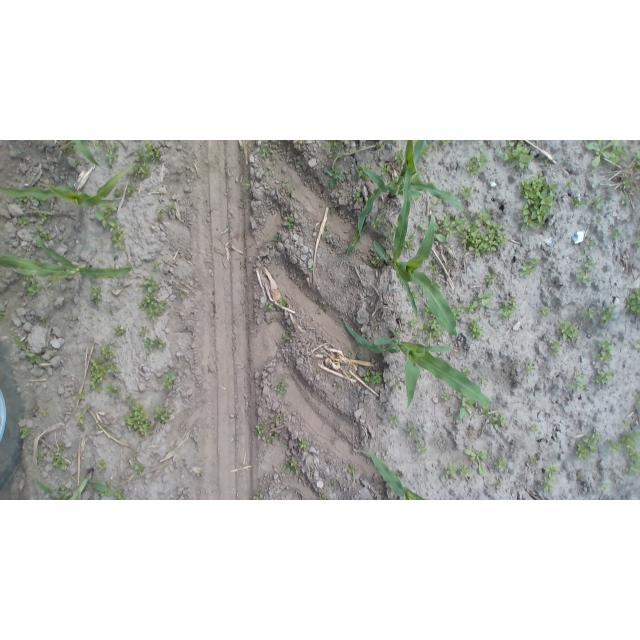Maize: (374, 170, 459, 346), (347, 142, 473, 259), (342, 317, 491, 412), (1, 165, 131, 210), (0, 235, 132, 278), (353, 448, 423, 500), (33, 468, 114, 501), (71, 141, 101, 168), (78, 405, 98, 432)
Weeds: (326, 141, 382, 188), (521, 179, 557, 232), (465, 221, 508, 259), (609, 430, 640, 476), (124, 398, 154, 436), (498, 141, 535, 170), (138, 294, 167, 321), (586, 141, 615, 168), (574, 431, 598, 459), (465, 151, 489, 178), (89, 359, 107, 394), (465, 449, 487, 475), (592, 339, 615, 363), (467, 292, 492, 313), (423, 319, 445, 342), (624, 288, 640, 316), (622, 177, 636, 208), (135, 142, 153, 166), (429, 259, 443, 289), (457, 397, 475, 420), (519, 257, 539, 277), (556, 321, 576, 341), (96, 210, 117, 228), (498, 300, 517, 319), (144, 337, 166, 353), (593, 369, 613, 385), (601, 301, 615, 322), (439, 214, 456, 231), (577, 268, 594, 285), (364, 370, 383, 385), (153, 406, 170, 422), (612, 140, 629, 156), (281, 459, 298, 474), (358, 163, 372, 181), (95, 140, 120, 150), (102, 344, 117, 360), (573, 374, 587, 391), (453, 303, 466, 321), (164, 374, 177, 391), (494, 414, 507, 431), (470, 320, 482, 338), (145, 276, 158, 292), (90, 288, 102, 305), (107, 384, 122, 397), (27, 353, 42, 366), (548, 341, 563, 354), (150, 148, 162, 164), (423, 302, 435, 318), (463, 187, 473, 206), (106, 151, 119, 165), (276, 381, 288, 396), (139, 166, 152, 179), (112, 235, 124, 249), (457, 463, 468, 478), (54, 457, 66, 470), (114, 324, 127, 336), (460, 364, 472, 377), (396, 149, 405, 166), (543, 481, 555, 493), (454, 215, 463, 231), (586, 238, 597, 251), (446, 466, 457, 479), (585, 257, 596, 270), (632, 150, 640, 167), (572, 197, 584, 208), (590, 195, 602, 206), (546, 466, 557, 478), (388, 415, 400, 426), (370, 217, 382, 228), (253, 424, 265, 435), (485, 275, 495, 288), (585, 308, 595, 321), (388, 226, 396, 242), (114, 489, 125, 500), (19, 217, 30, 228), (540, 307, 551, 318), (353, 192, 364, 203), (104, 204, 116, 214), (266, 433, 278, 443), (271, 232, 283, 242), (479, 210, 490, 220), (155, 211, 165, 222), (261, 147, 271, 158), (68, 144, 77, 156), (280, 178, 289, 190), (494, 459, 506, 468), (348, 464, 357, 476), (108, 363, 118, 373), (17, 342, 28, 351), (613, 229, 622, 240), (404, 241, 413, 252), (39, 214, 49, 223), (526, 364, 535, 374), (528, 456, 538, 465), (371, 255, 380, 265), (298, 440, 308, 449), (98, 461, 106, 472), (139, 326, 147, 337), (418, 443, 426, 454), (530, 425, 539, 434), (127, 183, 135, 193), (132, 166, 140, 176), (599, 481, 609, 489), (439, 392, 449, 400), (407, 320, 418, 327), (391, 329, 399, 338), (136, 466, 144, 475), (154, 262, 162, 271), (168, 204, 176, 213), (43, 232, 51, 241), (15, 148, 24, 156), (381, 167, 389, 176), (424, 145, 432, 154), (479, 374, 487, 383), (266, 302, 275, 310), (633, 238, 640, 248), (19, 197, 30, 203), (114, 188, 122, 196), (407, 427, 415, 435), (21, 429, 28, 438), (59, 484, 67, 491), (565, 180, 572, 188), (280, 297, 287, 305), (252, 494, 261, 500), (413, 175, 422, 181), (12, 337, 19, 344), (633, 343, 640, 350), (332, 381, 340, 387), (37, 453, 43, 460), (78, 394, 85, 400), (27, 427, 33, 433), (287, 223, 293, 229), (41, 317, 47, 322), (441, 141, 451, 144), (98, 491, 105, 495), (320, 495, 325, 500), (287, 215, 292, 220), (44, 412, 48, 417), (316, 368, 321, 372), (57, 447, 61, 451)
